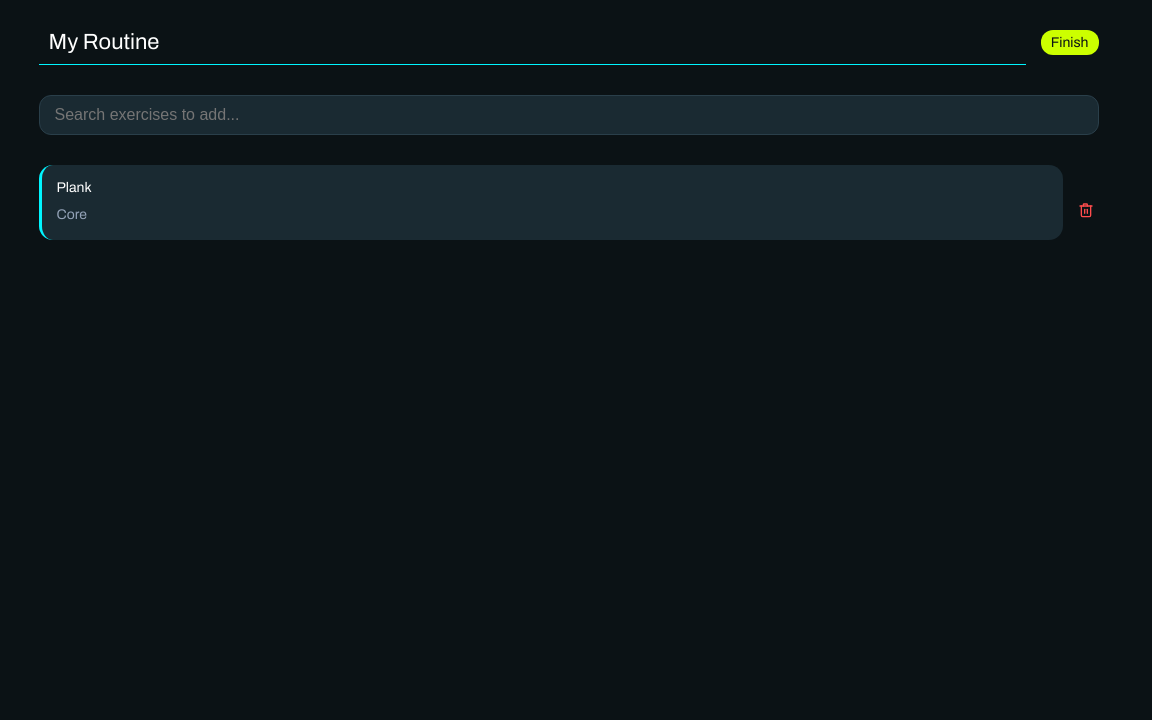
Test case: EditRoutinePage › opens muscle group modal when exercise card is clicked
Expected: the text "Plank" is shown, top-left (56, 180), bottom-right (92, 195)
Click the button "Plank Core" at (74, 188), box top-left (38, 165), bottom-right (1062, 240)
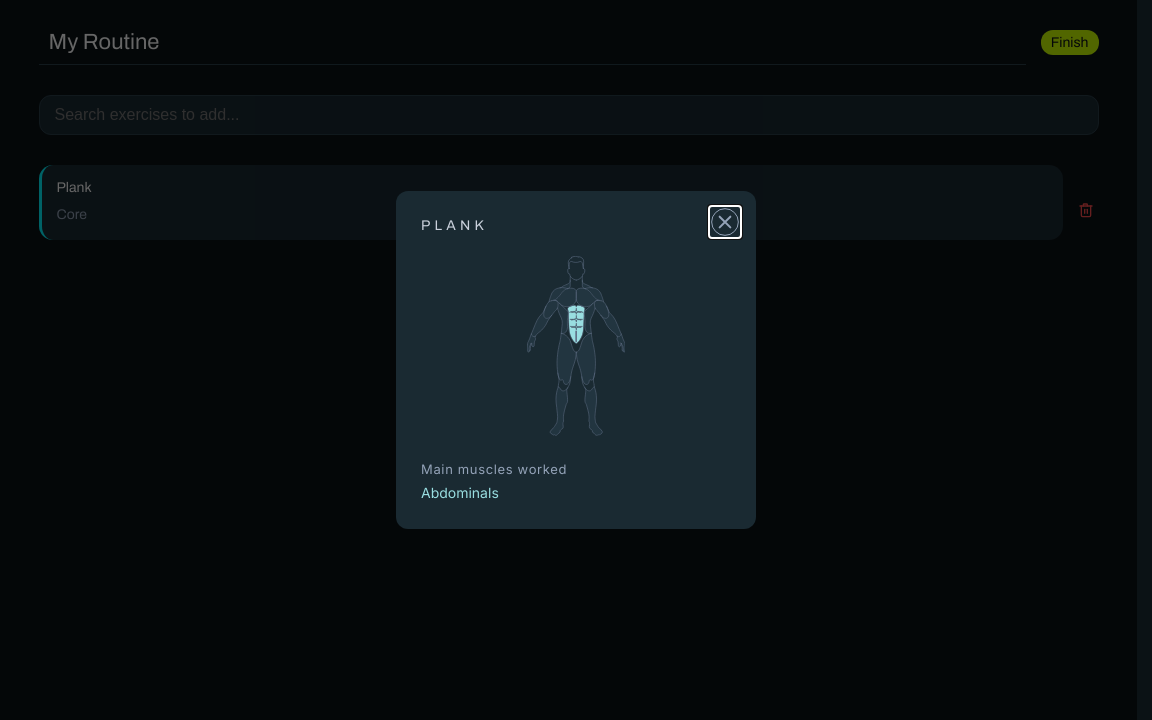
Expected: the heading "Main muscles worked" is shown, top-left (421, 461), bottom-right (567, 477)
Expected: the text "Abdominals" is shown, top-left (421, 482), bottom-right (499, 504)
